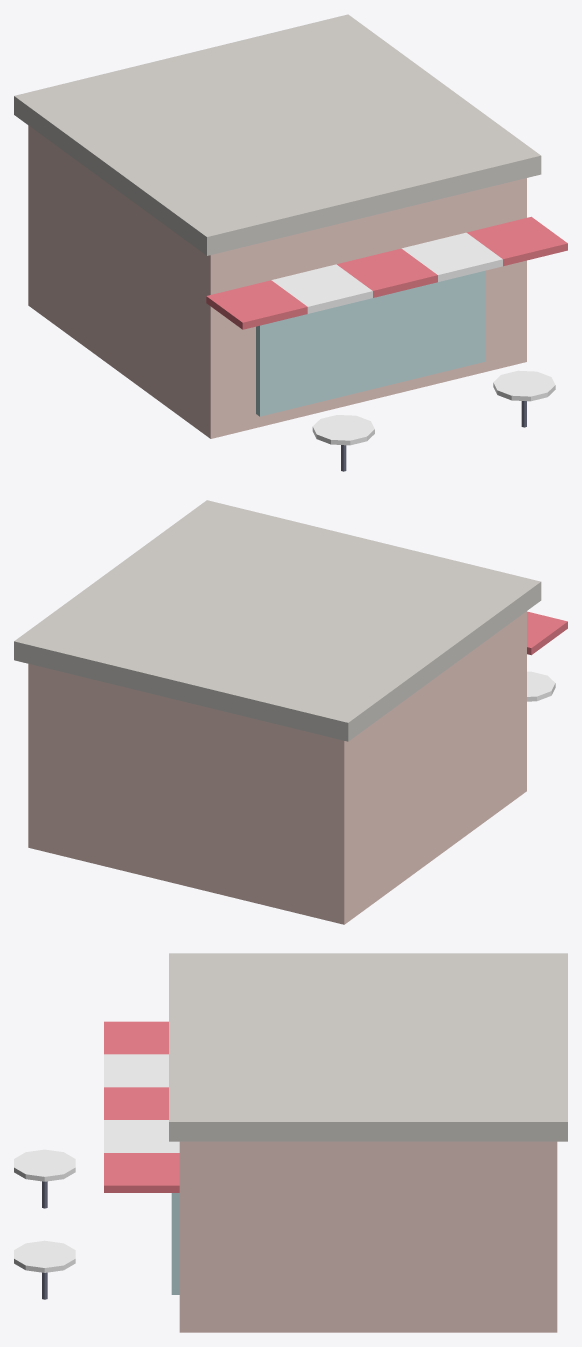
Rendered from cafe.glb.
3 views of the same model, one above another, from view 1: azimuth 30°, elevation 25°; view 2: azimuth 150°, elevation 25°; view 3: azimuth 270°, elevation 25° (orthographic). The views are drawn at different scales.
Parts seen in each view (by area): view 1: cafe_roof_flat, cafe_wall_pink, cafe_glass, cafe_white, cafe_red; view 2: cafe_wall_pink, cafe_roof_flat, cafe_red, cafe_white; view 3: cafe_roof_flat, cafe_wall_pink, cafe_white, cafe_red, cafe_glass.
Part boxes in pixels (x1=…): cafe_roof_flat: x1=14, y1=14, x2=541, y2=255; cafe_wall_pink: x1=28, y1=125, x2=526, y2=438; cafe_glass: x1=256, y1=270, x2=485, y2=416; cafe_white: x1=271, y1=232, x2=555, y2=445; cafe_red: x1=206, y1=216, x2=567, y2=329; cafe_wall_pink: x1=28, y1=611, x2=526, y2=924; cafe_roof_flat: x1=14, y1=500, x2=541, y2=741; cafe_red: x1=527, y1=611, x2=567, y2=655; cafe_white: x1=527, y1=671, x2=555, y2=701; cafe_roof_flat: x1=169, y1=953, x2=567, y2=1141; cafe_wall_pink: x1=179, y1=1141, x2=557, y2=1332; cafe_white: x1=14, y1=1054, x2=179, y2=1272; cafe_red: x1=104, y1=1021, x2=179, y2=1192; cafe_glass: x1=171, y1=1193, x2=179, y2=1294.
Size of the model in its own units: 7.4 by 4.4 by 10.27.
